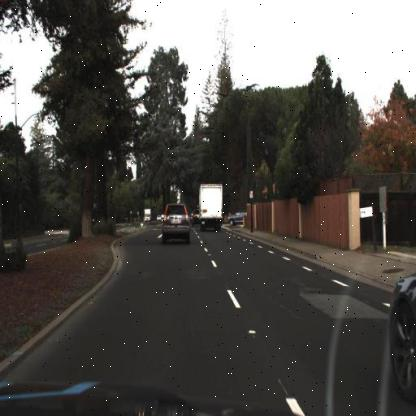car: (380, 246, 415, 408), (158, 195, 194, 252), (194, 179, 228, 233), (226, 206, 249, 230), (140, 203, 154, 228), (228, 208, 246, 224), (156, 214, 160, 221)
truck: (198, 180, 224, 230), (144, 208, 150, 224)
